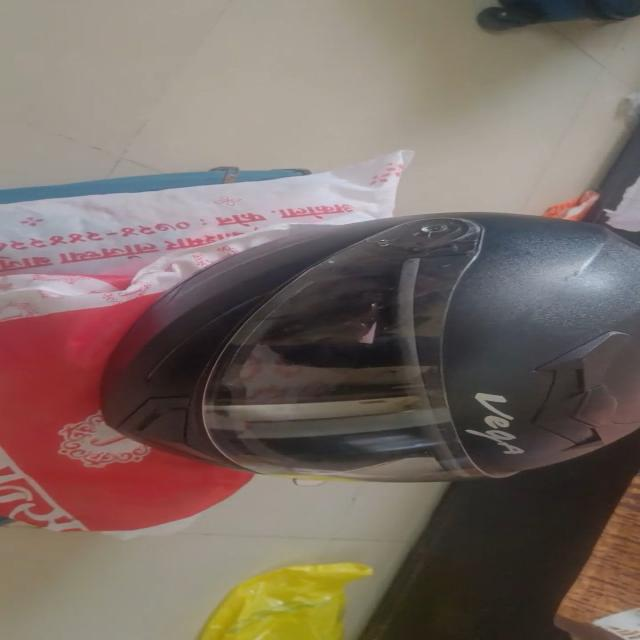Helmet: (101, 208, 640, 482)
